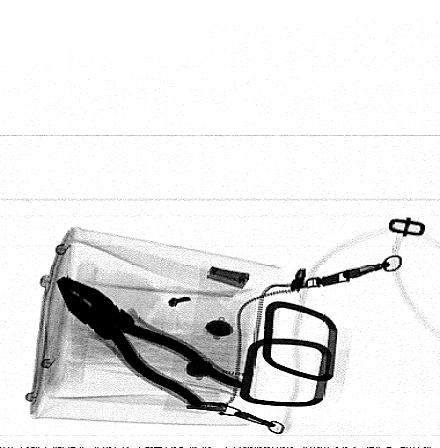Pliers: (56, 276, 246, 409)
